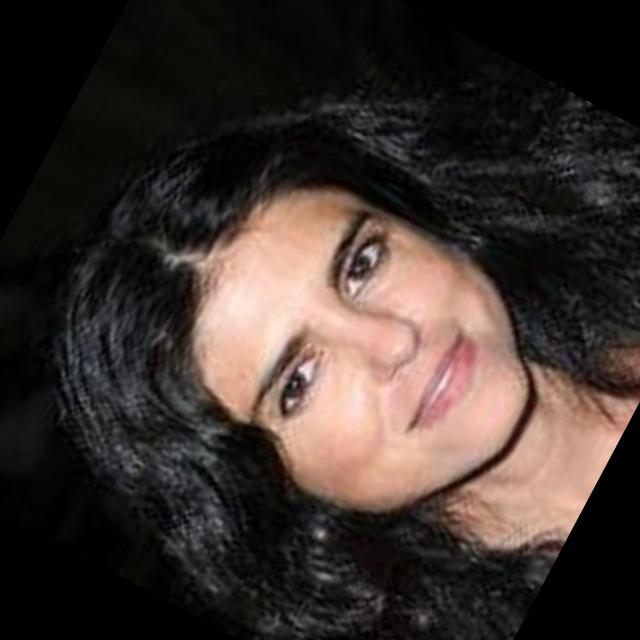bareface: (106, 116, 597, 603)
